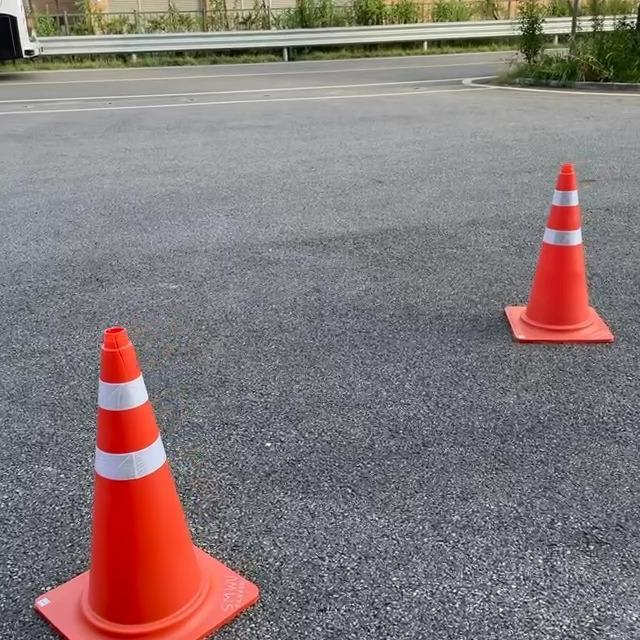fallen_object: (35, 302, 270, 639), (512, 142, 626, 393)
